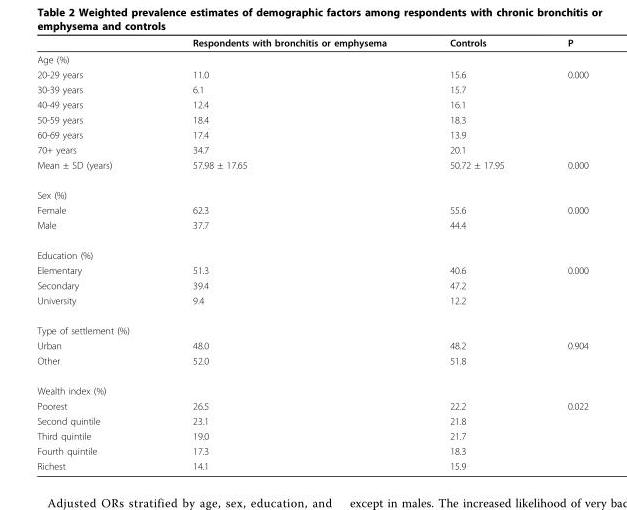table: (36, 36, 587, 471)
table column: (160, 36, 417, 471), (36, 36, 160, 471), (417, 36, 535, 471), (535, 36, 587, 471)
table column header: (36, 36, 587, 50)
table projected row header: (36, 179, 587, 202), (36, 239, 587, 262), (36, 375, 587, 398), (36, 315, 587, 337), (36, 50, 587, 66)
table row: (36, 179, 587, 202), (36, 239, 587, 262), (36, 292, 587, 315), (36, 352, 587, 375), (36, 375, 587, 398), (36, 157, 587, 179), (36, 217, 587, 239), (36, 315, 587, 337), (36, 50, 587, 66), (36, 141, 587, 157), (36, 66, 587, 81), (36, 81, 587, 96), (36, 96, 587, 111), (36, 111, 587, 126), (36, 126, 587, 141), (36, 202, 587, 217), (36, 262, 587, 277), (36, 277, 587, 292), (36, 337, 587, 352), (36, 398, 587, 413), (36, 413, 587, 428), (36, 428, 587, 443), (36, 443, 587, 458), (36, 36, 587, 50), (36, 458, 587, 471)
